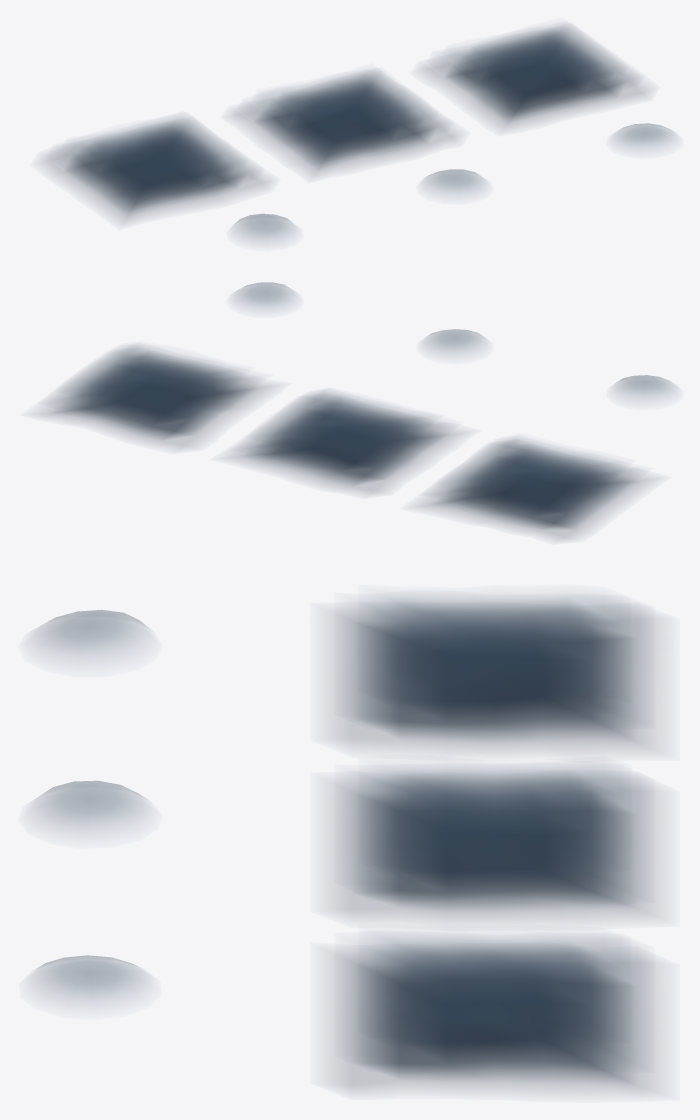
The model's file is map_fog.glb.
The picture shows the model from 3 angles, top to bottom: view 1: azimuth 30°, elevation 25°; view 2: azimuth 150°, elevation 25°; view 3: azimuth 270°, elevation 25°; orthographic projection. The views are drawn at different scales.
Visible parts, largest first — view 1: Cloud1, Cloud2, Cloud3, Wisp1, Wisp2, Wisp3; view 2: Cloud3, Cloud2, Cloud1, Wisp3, Wisp2, Wisp1; view 3: Cloud3, Cloud1, Cloud2, Wisp2, Wisp1, Wisp3.
Part boxes in pixels (bbox=[...]): Cloud1: bbox=[41, 116, 268, 222]; Cloud2: bbox=[232, 69, 458, 176]; Cloud3: bbox=[421, 24, 648, 129]; Wisp1: bbox=[234, 214, 295, 242]; Wisp2: bbox=[424, 169, 486, 195]; Wisp3: bbox=[614, 123, 675, 149]; Cloud3: bbox=[37, 344, 273, 448]; Cloud2: bbox=[227, 390, 463, 494]; Cloud1: bbox=[417, 438, 653, 539]; Wisp3: bbox=[234, 282, 296, 309]; Wisp2: bbox=[424, 329, 485, 355]; Wisp1: bbox=[614, 375, 675, 399]; Cloud3: bbox=[334, 935, 655, 1092]; Cloud1: bbox=[334, 595, 655, 750]; Cloud2: bbox=[334, 765, 655, 919]; Wisp2: bbox=[32, 781, 148, 832]; Wisp1: bbox=[32, 610, 148, 659]; Wisp3: bbox=[33, 955, 147, 1004].
Bounding box in the file's own units: 5.3 × 0.3008 × 2.99.
